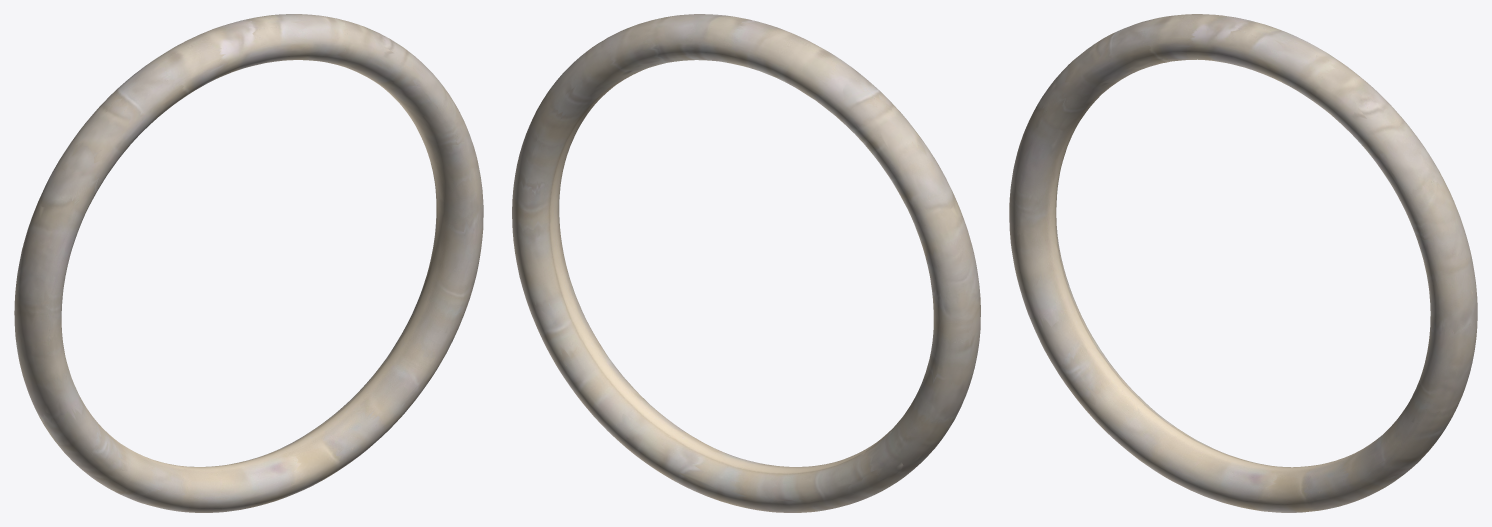
The model's file is ring_pearl.glb.
3 renders of one model, left to right at view 1: azimuth 30°, elevation 25°; view 2: azimuth 150°, elevation 25°; view 3: azimuth 330°, elevation 25°, orthographic.
Visible parts, largest first — view 1: Mesh_0; view 2: Mesh_0; view 3: Mesh_0.
Boxes of the visible parts, left/top/right/bottom form: Mesh_0: left=14, top=14, right=483, bottom=512; Mesh_0: left=512, top=14, right=980, bottom=512; Mesh_0: left=1009, top=14, right=1477, bottom=512.
Size of the model in its own units: 2.18 by 2.18 by 0.2291.
1 material, 1 textured.
